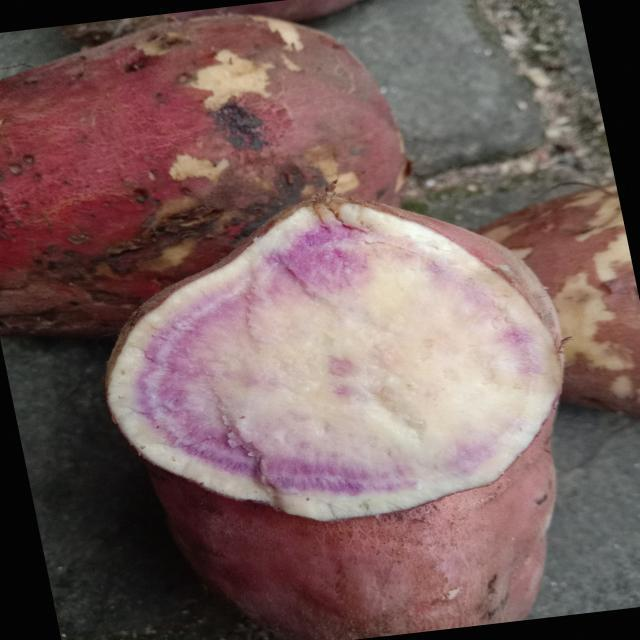Healthy Sweet Potato: (107, 192, 563, 521)
